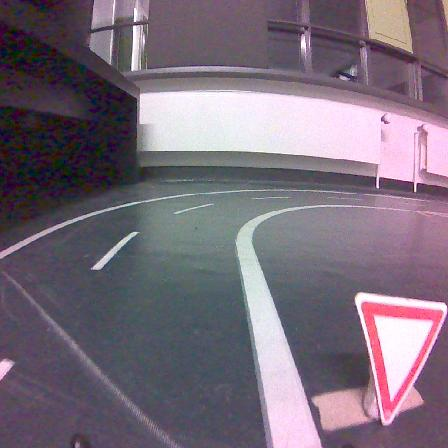GIVE_WAY: (355, 293, 446, 424)
